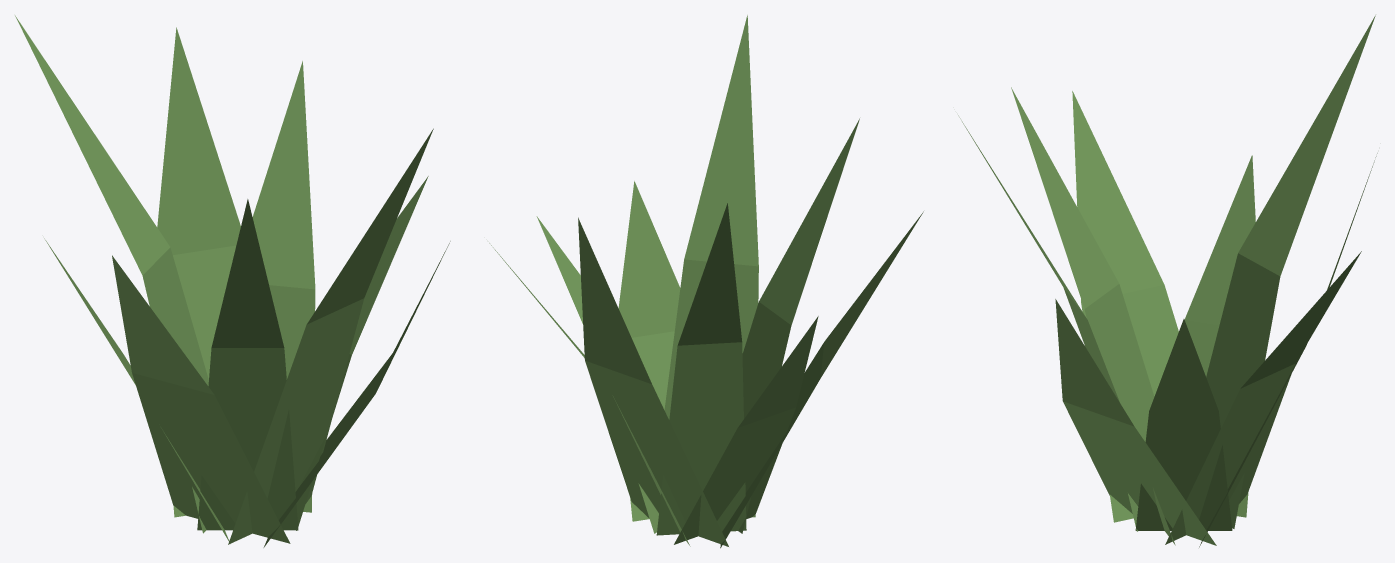
The model's file is meadow_grass_clump.glb.
The picture shows the model from 3 angles, left to right: view 1: azimuth 30°, elevation 25°; view 2: azimuth 150°, elevation 25°; view 3: azimuth 270°, elevation 25°; orthographic projection. The views are drawn at different scales.
Visible parts, largest first — view 1: Meadow Grass Clump; view 2: Meadow Grass Clump; view 3: Meadow Grass Clump.
Part boxes in pixels (x1,y1,x2,y2): Meadow Grass Clump: [15, 15, 450, 547]; Meadow Grass Clump: [489, 15, 923, 548]; Meadow Grass Clump: [958, 15, 1377, 547].
Size of the model in its own units: 0.3941 by 0.465 by 0.4065.
